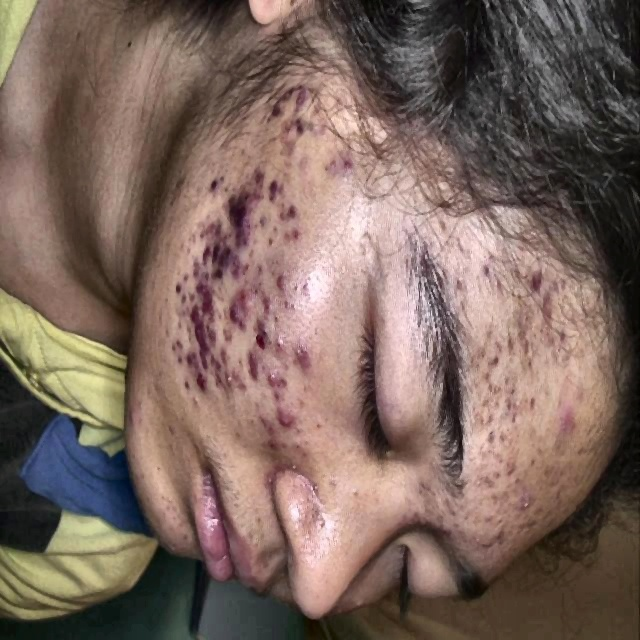nodule: (522, 253, 548, 299), (254, 410, 277, 458), (209, 239, 233, 284), (276, 401, 300, 445), (267, 364, 294, 403), (286, 334, 312, 372), (539, 287, 564, 326), (291, 78, 314, 116), (229, 189, 251, 226), (206, 208, 225, 250), (264, 97, 286, 133), (200, 281, 217, 326), (341, 147, 361, 185), (489, 428, 512, 460), (224, 368, 246, 400), (503, 384, 523, 418), (186, 250, 201, 292), (287, 220, 308, 250), (204, 318, 223, 351), (196, 369, 218, 397), (272, 270, 292, 300), (124, 400, 144, 430), (168, 334, 186, 367), (324, 154, 341, 188), (517, 484, 535, 516), (216, 346, 238, 372), (242, 357, 270, 376), (255, 286, 277, 310), (201, 166, 219, 195), (180, 368, 194, 404), (288, 112, 304, 143), (231, 253, 248, 282), (226, 297, 241, 328), (250, 164, 268, 189), (239, 284, 255, 312), (170, 282, 190, 304), (233, 226, 252, 249), (186, 294, 204, 318), (272, 322, 282, 364), (249, 311, 267, 334), (572, 405, 586, 434), (222, 328, 238, 353), (191, 317, 201, 353), (504, 457, 518, 480), (194, 351, 212, 368), (266, 178, 281, 197), (187, 349, 200, 366), (277, 76, 285, 99), (203, 241, 210, 264), (288, 207, 297, 218), (527, 428, 529, 432)
